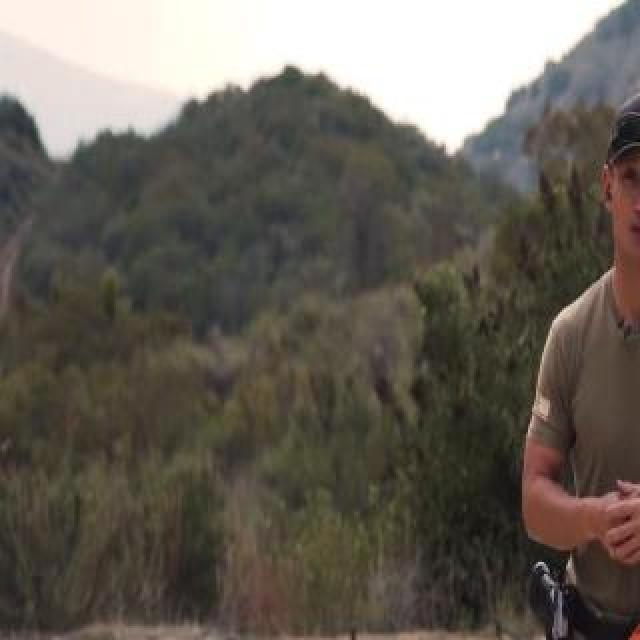Guns: (518, 544, 590, 640)
